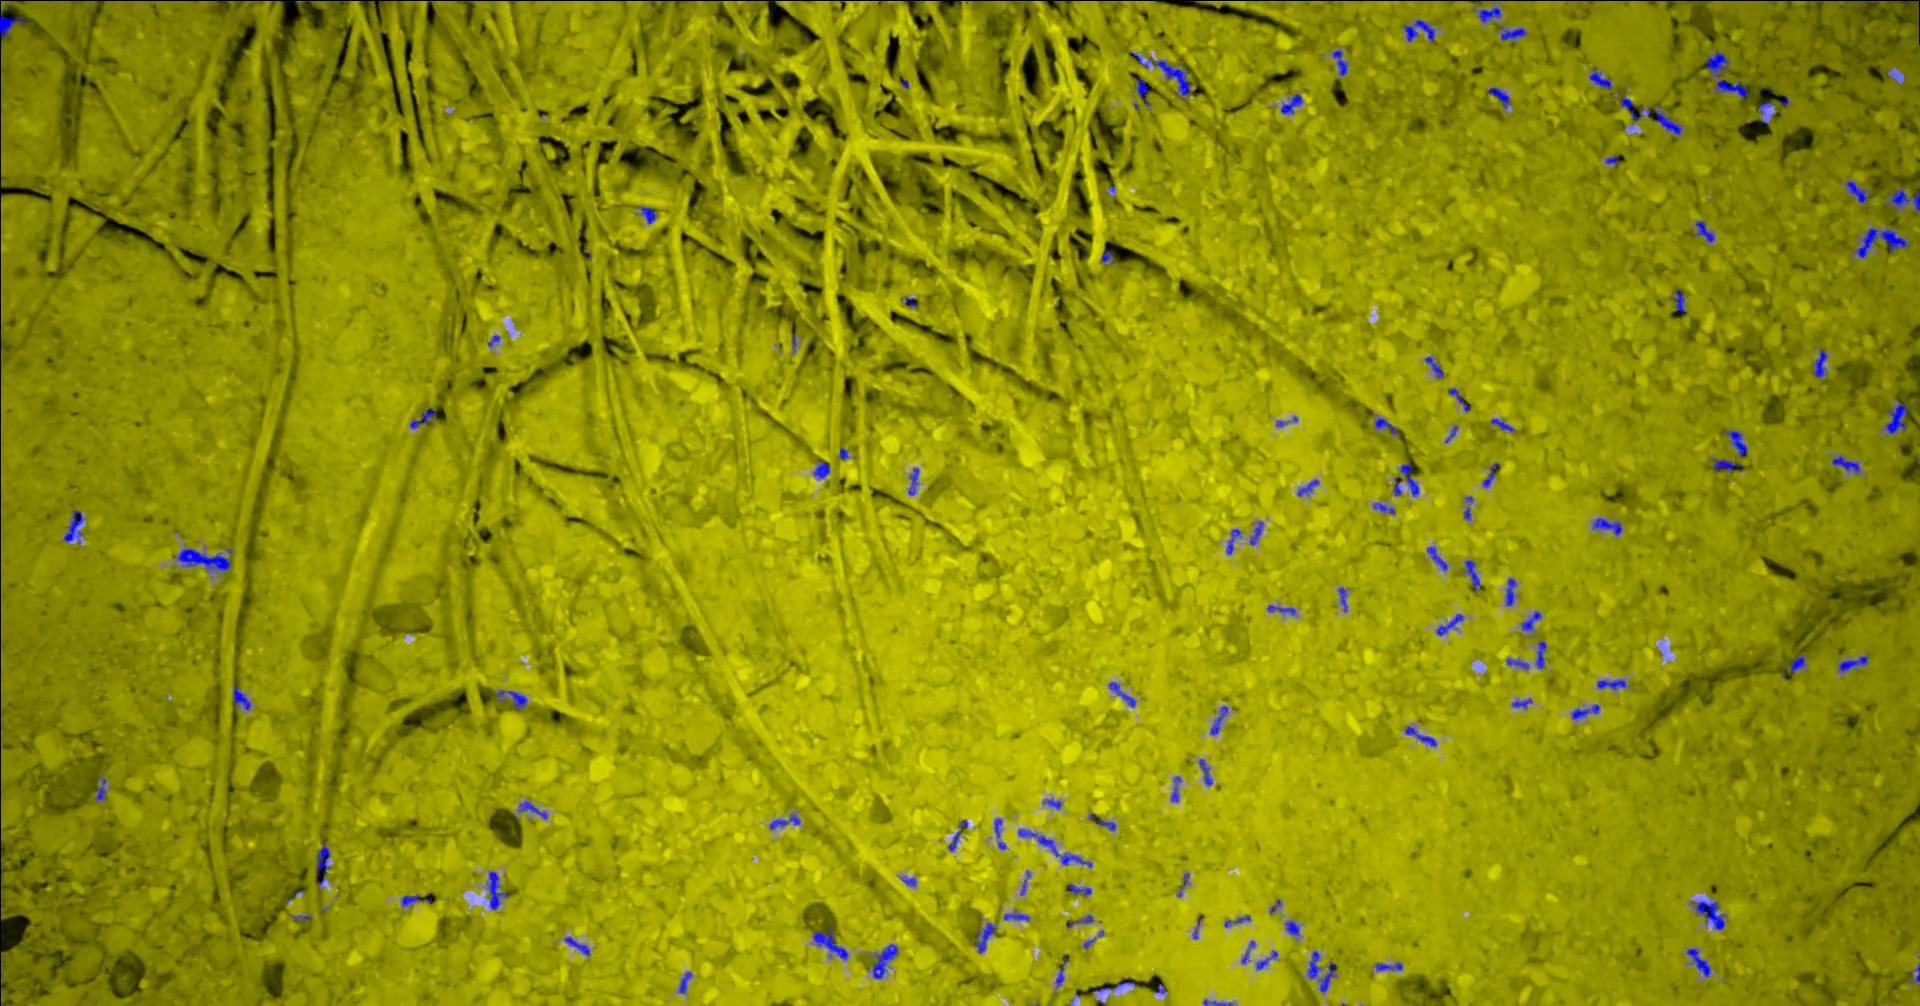ant: (1130, 51, 1196, 95), (1017, 828, 1091, 868), (1705, 51, 1747, 98), (1855, 227, 1909, 258), (1884, 0, 1919, 41), (811, 923, 848, 959), (177, 547, 231, 570), (1690, 901, 1724, 929), (872, 942, 897, 979), (1392, 464, 1418, 495), (486, 871, 508, 909), (1655, 104, 1681, 135), (1887, 187, 1919, 211), (1884, 401, 1907, 434), (0, 10, 27, 37), (1109, 681, 1135, 708), (1686, 948, 1710, 977), (1619, 97, 1650, 119), (1723, 429, 1747, 457), (315, 840, 329, 888), (973, 922, 996, 951), (1403, 19, 1434, 41), (1404, 725, 1436, 746), (63, 509, 83, 542), (495, 688, 526, 709), (1435, 614, 1463, 635), (1371, 413, 1398, 434), (1831, 455, 1860, 474), (1448, 387, 1470, 412), (1209, 705, 1227, 735), (1845, 180, 1868, 203), (1426, 546, 1448, 570), (1592, 517, 1622, 535), (518, 800, 547, 818), (770, 812, 799, 829), (409, 409, 436, 428), (563, 936, 589, 955), (1464, 559, 1481, 589), (1318, 962, 1335, 992), (1487, 86, 1510, 108), (232, 683, 250, 710), (1837, 655, 1868, 671), (1570, 704, 1599, 719), (1280, 93, 1302, 113), (1589, 69, 1611, 88), (1695, 220, 1714, 243), (1423, 356, 1443, 379), (1255, 950, 1277, 969), (1521, 610, 1540, 631), (1710, 459, 1742, 471), (1482, 462, 1498, 486), (1498, 25, 1526, 39), (1812, 351, 1826, 379), (1332, 50, 1347, 75), (993, 818, 1006, 848), (1197, 758, 1211, 785), (1297, 479, 1318, 495), (1137, 77, 1149, 105), (1225, 528, 1239, 554), (1065, 915, 1093, 927), (1307, 950, 1319, 978), (1239, 940, 1255, 963), (1478, 6, 1500, 22), (1224, 915, 1250, 927), (1671, 290, 1685, 312), (677, 970, 691, 993), (639, 206, 657, 224), (401, 895, 432, 906), (1490, 418, 1514, 431), (1371, 502, 1396, 514), (1067, 883, 1091, 895), (1596, 680, 1625, 690), (1250, 521, 1262, 544), (1789, 654, 1804, 673), (1170, 776, 1181, 801), (908, 467, 918, 495), (1505, 577, 1515, 605), (1267, 605, 1295, 615), (1535, 640, 1545, 668), (813, 461, 829, 478), (1505, 657, 1528, 668), (1003, 909, 1029, 920), (949, 829, 960, 851), (1337, 587, 1347, 611), (1375, 962, 1402, 970), (95, 776, 105, 799), (1284, 920, 1299, 935), (1463, 495, 1472, 520), (1097, 818, 1115, 829), (1100, 249, 1114, 263), (1043, 798, 1062, 808), (1203, 998, 1232, 1005), (1511, 699, 1531, 708), (902, 297, 917, 307)
